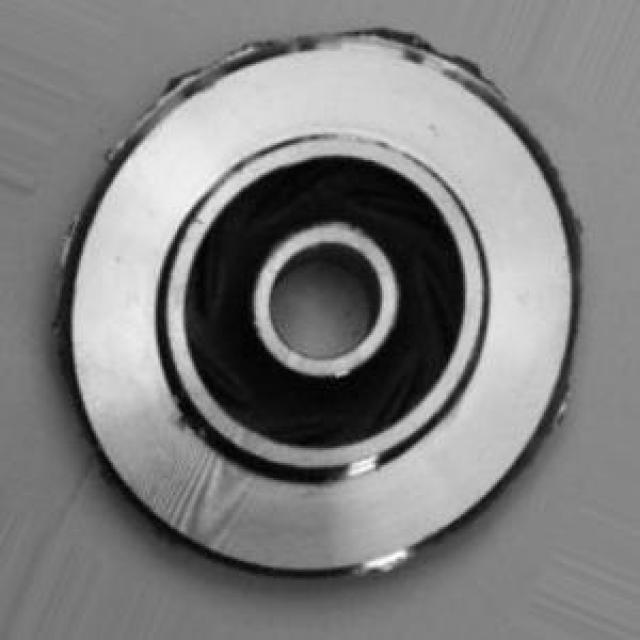Defect: (381, 18, 440, 60)
